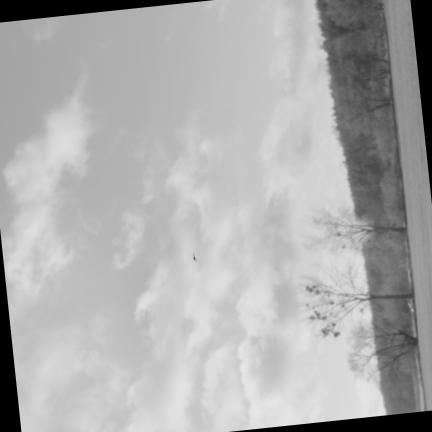Shahed: (192, 251, 197, 262)
